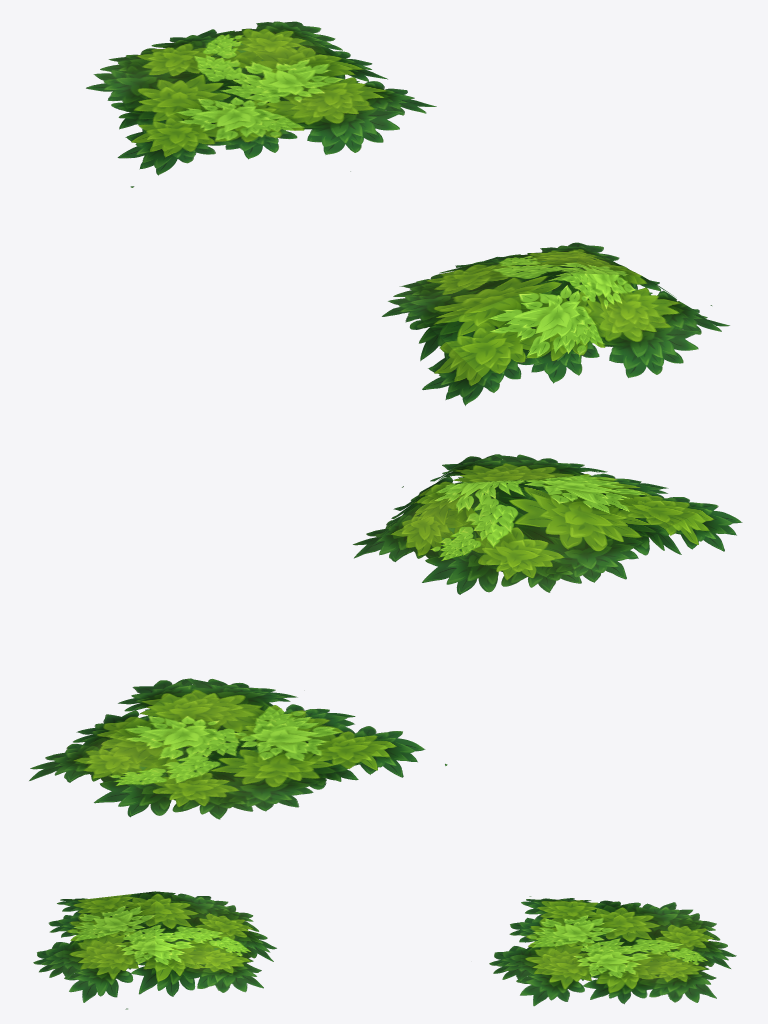
Rendered from Leaves.fbx.
The picture shows the model from 3 angles, top to bottom: view 1: azimuth 30°, elevation 25°; view 2: azimuth 150°, elevation 25°; view 3: azimuth 270°, elevation 25°; orthographic projection. The views are drawn at different scales.
Visible parts, largest first — view 1: Plane, Plane.001; view 2: Plane, Plane.001; view 3: Plane, Plane.001.
Part boxes in pixels (x1,y1,x2,y2): Plane: (86, 21, 436, 187); Plane.001: (382, 242, 729, 405); Plane: (29, 678, 447, 819); Plane.001: (353, 454, 742, 594); Plane: (489, 896, 736, 1006); Plane.001: (33, 891, 276, 1009).
Bounding box in the file's own units: 299 × 44.98 × 805.
